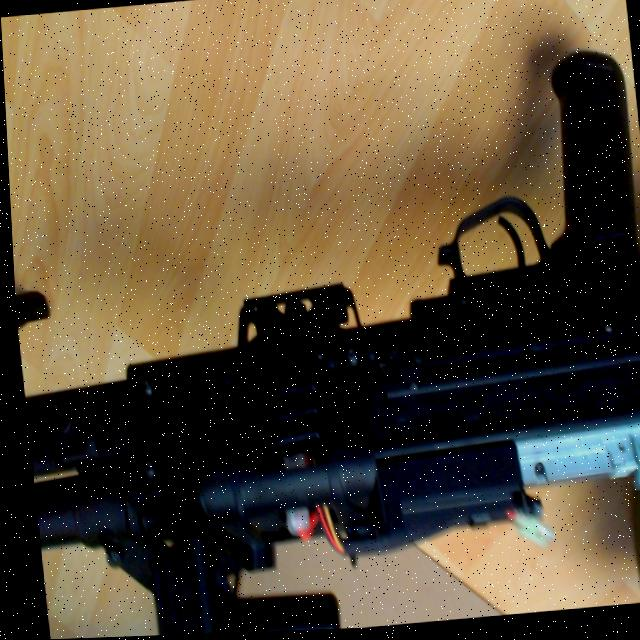firearm: (3, 49, 640, 640)
